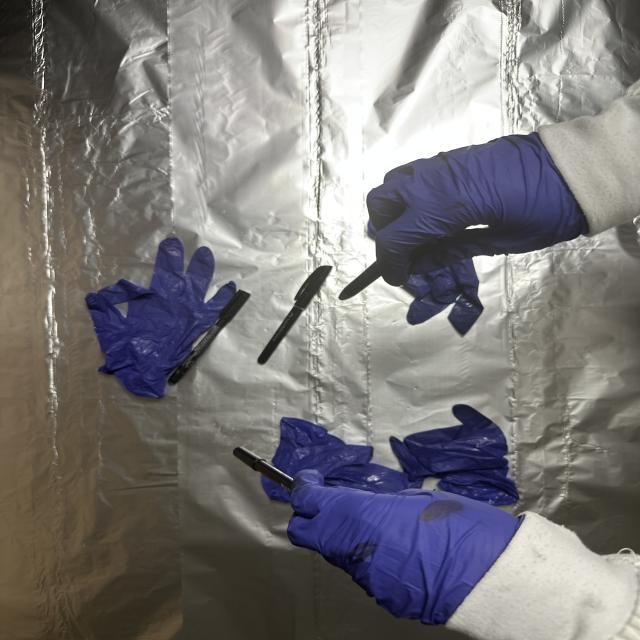gloves_contaminated: (288, 471, 518, 624), (367, 133, 590, 286)
